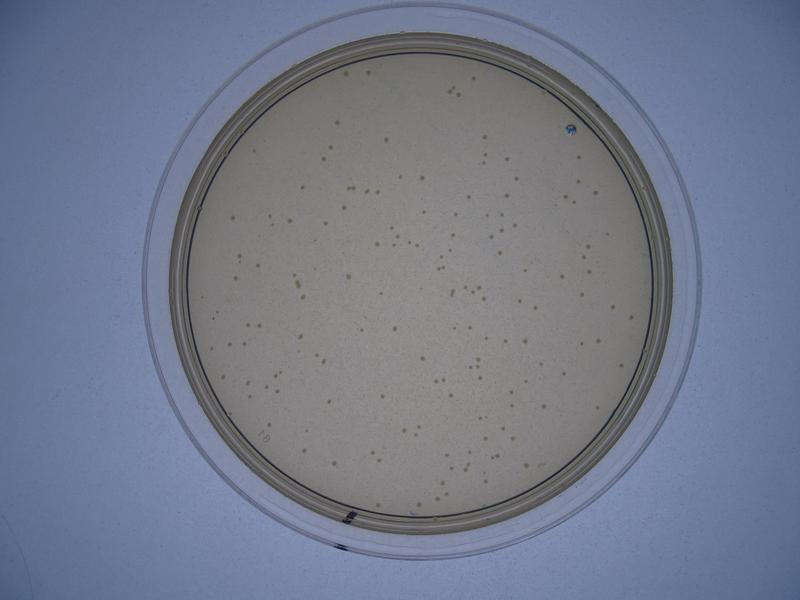colony: (535, 400, 552, 416), (204, 342, 219, 357), (316, 217, 332, 231), (465, 71, 479, 87), (589, 186, 603, 202), (325, 453, 338, 470), (378, 130, 391, 146), (520, 332, 533, 348), (328, 115, 342, 129), (529, 300, 543, 314), (373, 390, 388, 403), (225, 212, 238, 226), (250, 259, 262, 274), (498, 190, 513, 202), (478, 130, 491, 143), (607, 300, 620, 313), (518, 264, 531, 277), (361, 66, 374, 79), (294, 182, 308, 194), (388, 323, 402, 335), (573, 149, 585, 163), (321, 395, 335, 407), (215, 372, 229, 384), (417, 206, 431, 218), (294, 329, 305, 344), (415, 351, 427, 364), (445, 388, 457, 401), (415, 172, 427, 184), (615, 359, 627, 371), (583, 267, 596, 278), (603, 229, 613, 241), (344, 270, 354, 282), (229, 274, 241, 284), (558, 369, 571, 378)
